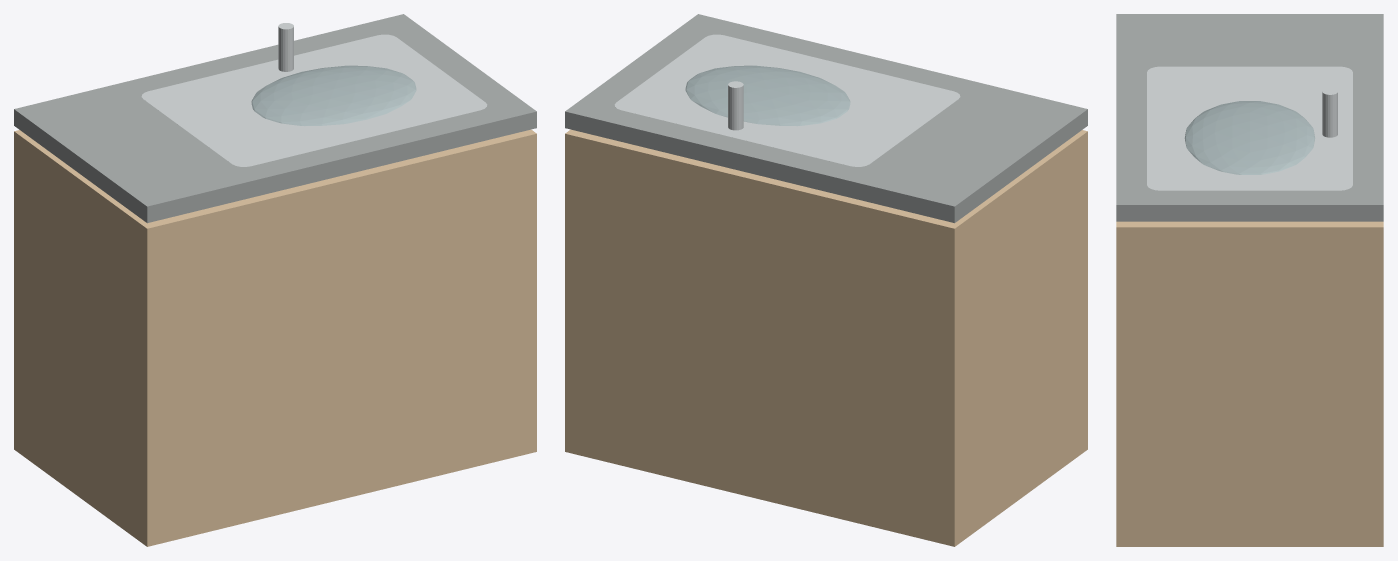
File: f-kitchen-o02-631d6e7889.glb
3 views of the same model, side by side, from view 1: azimuth 30°, elevation 25°; view 2: azimuth 150°, elevation 25°; view 3: azimuth 270°, elevation 25° (orthographic).
Parts seen in each view (by area): view 1: base-cabinet, worktop, sink-surround, sink-bowl, mixer; view 2: base-cabinet, worktop, sink-surround, sink-bowl, mixer; view 3: base-cabinet, worktop, sink-surround, sink-bowl, mixer.
Boxes of the visible parts, left/top/right/bottom form: base-cabinet: left=14, top=129, right=536, bottom=546; worktop: left=14, top=14, right=536, bottom=223; sink-surround: left=141, top=34, right=487, bottom=166; sink-bowl: left=251, top=65, right=416, bottom=126; mixer: left=278, top=23, right=293, bottom=71; base-cabinet: left=565, top=129, right=1087, bottom=546; worktop: left=565, top=14, right=1087, bottom=223; sink-surround: left=614, top=34, right=960, bottom=166; sink-bowl: left=685, top=65, right=850, bottom=126; mixer: left=728, top=81, right=743, bottom=130; base-cabinet: left=1116, top=221, right=1383, bottom=546; worktop: left=1116, top=14, right=1383, bottom=221; sink-surround: left=1147, top=66, right=1352, bottom=190; sink-bowl: left=1184, top=101, right=1315, bottom=174; mixer: left=1322, top=88, right=1337, bottom=137.
Size of the model in its own units: 0.98 by 0.92 by 0.58.
